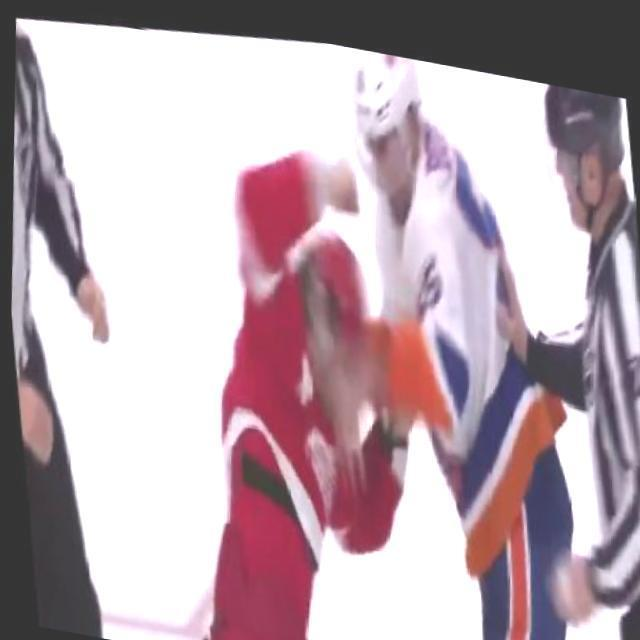fight: (181, 19, 596, 640)
